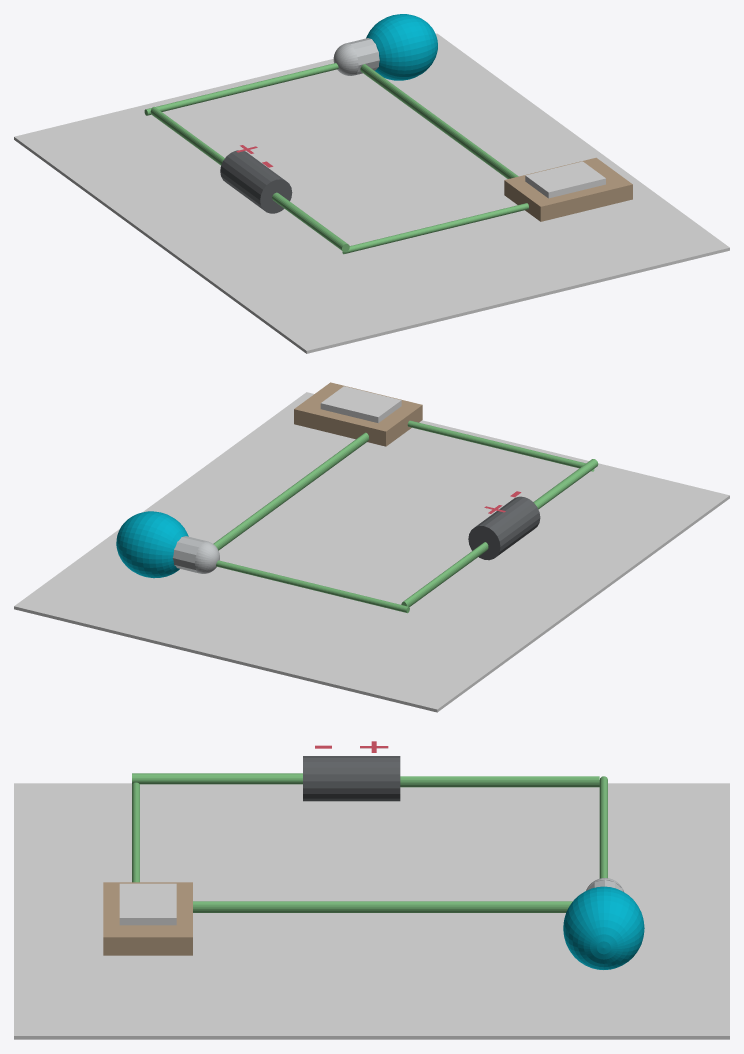
The model's file is Circuit.glb.
3 views of the same model, one above another, from view 1: azimuth 30°, elevation 25°; view 2: azimuth 150°, elevation 25°; view 3: azimuth 270°, elevation 25° (orthographic). The views are drawn at different scales.
Visible parts, largest first — view 1: Mesh_Mesh_head_geo.001_lambert2SG.001; view 2: Mesh_Mesh_head_geo.001_lambert2SG.001; view 3: Mesh_Mesh_head_geo.001_lambert2SG.001.
Boxes of the visible parts, <box> form: Mesh_Mesh_head_geo.001_lambert2SG.001: <box>14,14,729,353</box>; Mesh_Mesh_head_geo.001_lambert2SG.001: <box>14,382,729,712</box>; Mesh_Mesh_head_geo.001_lambert2SG.001: <box>14,741,729,1039</box>.
Size of the model in its own units: 147 by 26 by 176.
